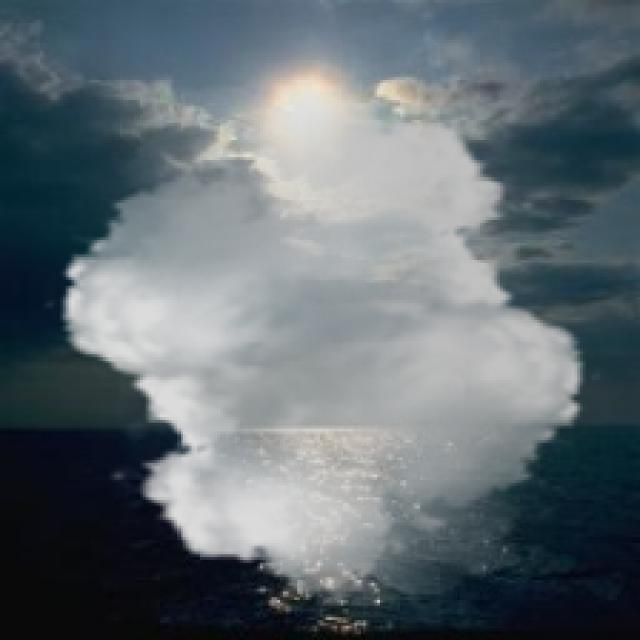Smoke: (40, 74, 606, 606)
